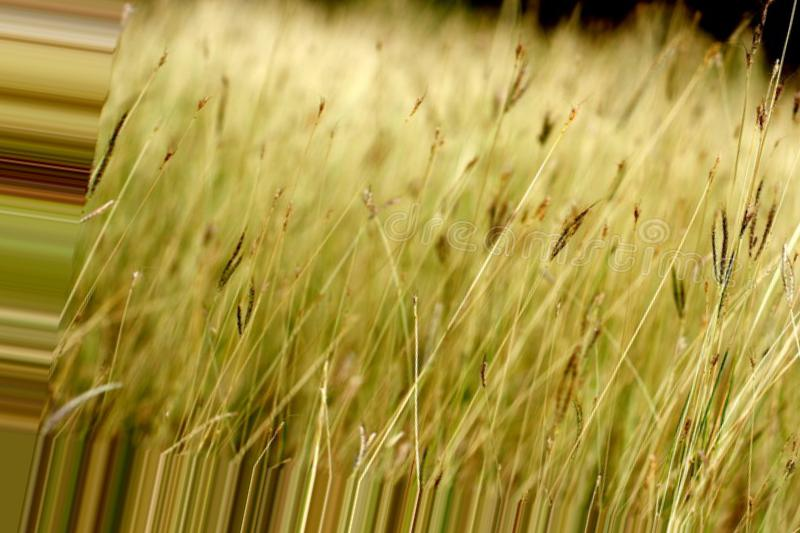patch: (225, 13, 631, 204)
